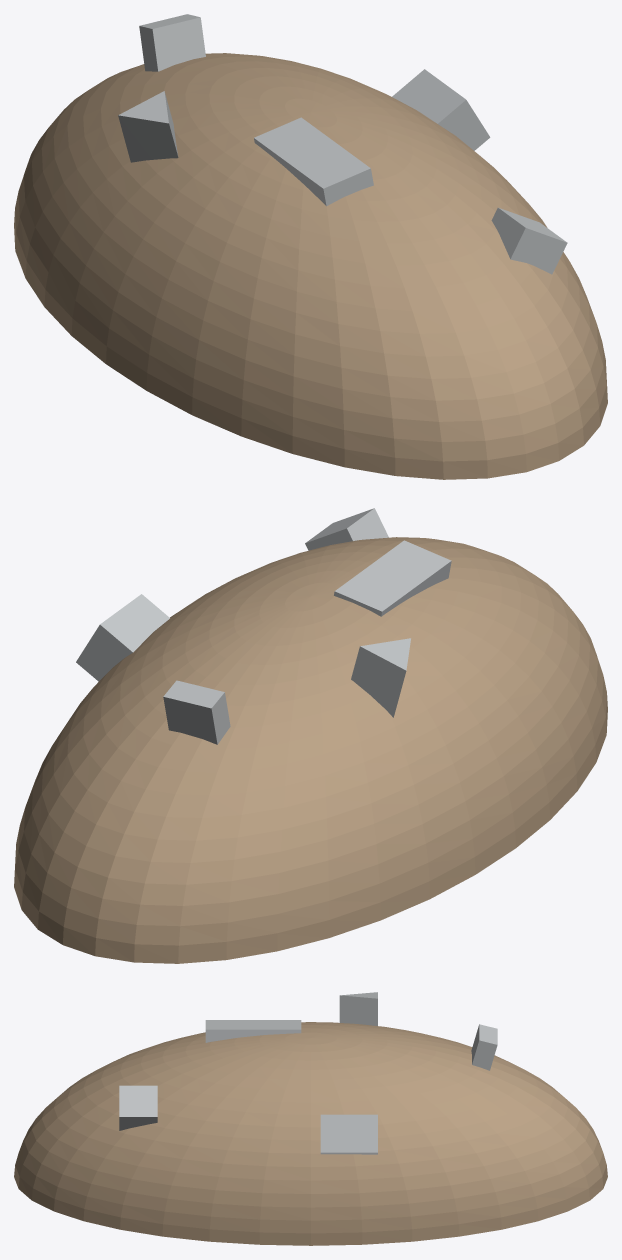
File: heap1.glb
3 views of the same model, one above another, from view 1: azimuth 30°, elevation 25°; view 2: azimuth 150°, elevation 25°; view 3: azimuth 270°, elevation 25° (orthographic). The views are drawn at different scales.
Visible parts, largest first — view 1: Mesh_Mesh_head_geo.001_lambert2SG.001; view 2: Mesh_Mesh_head_geo.001_lambert2SG.001; view 3: Mesh_Mesh_head_geo.001_lambert2SG.001.
Boxes of the visible parts, left/top/right/bottom form: Mesh_Mesh_head_geo.001_lambert2SG.001: left=14, top=14, right=607, bottom=479; Mesh_Mesh_head_geo.001_lambert2SG.001: left=14, top=508, right=607, bottom=963; Mesh_Mesh_head_geo.001_lambert2SG.001: left=14, top=992, right=607, bottom=1245.
Size of the model in its own units: 1.7 by 0.838 by 3.1.
